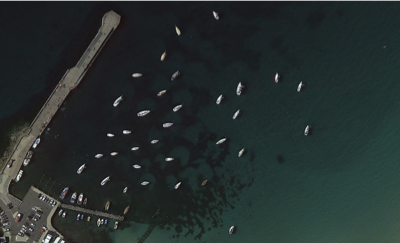boat: (170, 68, 182, 83), (136, 109, 152, 119), (99, 176, 111, 189), (14, 171, 26, 184), (112, 95, 124, 108), (60, 185, 69, 202), (21, 154, 35, 164), (215, 137, 229, 147), (215, 94, 226, 106), (293, 82, 305, 93), (171, 104, 184, 114), (111, 218, 120, 232), (232, 109, 241, 123), (76, 164, 86, 176), (156, 89, 168, 99), (302, 125, 312, 137), (60, 209, 68, 223), (162, 121, 175, 129), (211, 12, 222, 21), (173, 25, 182, 36), (131, 162, 144, 169), (33, 137, 42, 147), (54, 209, 63, 219), (236, 148, 246, 157), (150, 138, 161, 146), (159, 52, 167, 63), (92, 153, 104, 160), (78, 192, 84, 206), (71, 192, 77, 206), (98, 217, 105, 229), (236, 84, 243, 96), (164, 156, 177, 162), (121, 129, 134, 135), (131, 73, 144, 79), (274, 72, 280, 85), (123, 205, 130, 216), (229, 225, 237, 234), (174, 182, 183, 190), (105, 201, 110, 214), (97, 216, 102, 228), (201, 180, 209, 187), (122, 185, 127, 196), (129, 147, 140, 152), (85, 197, 91, 206), (78, 211, 82, 224), (108, 151, 118, 156), (140, 181, 150, 186), (102, 219, 108, 227), (87, 215, 92, 224), (105, 134, 116, 138), (74, 214, 80, 220)
